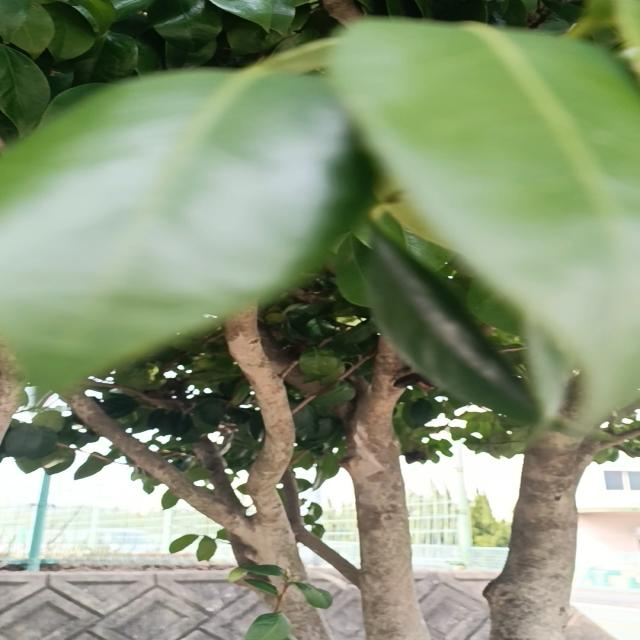Branch: (66, 389, 252, 533), (222, 302, 299, 539), (489, 422, 589, 599), (354, 330, 417, 592)
Twig: (280, 466, 363, 582), (597, 426, 640, 451)
